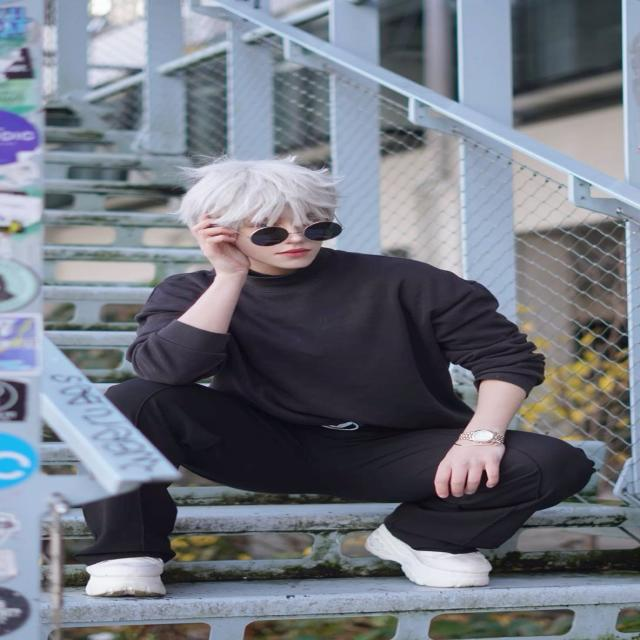sit: (110, 160, 554, 595)
